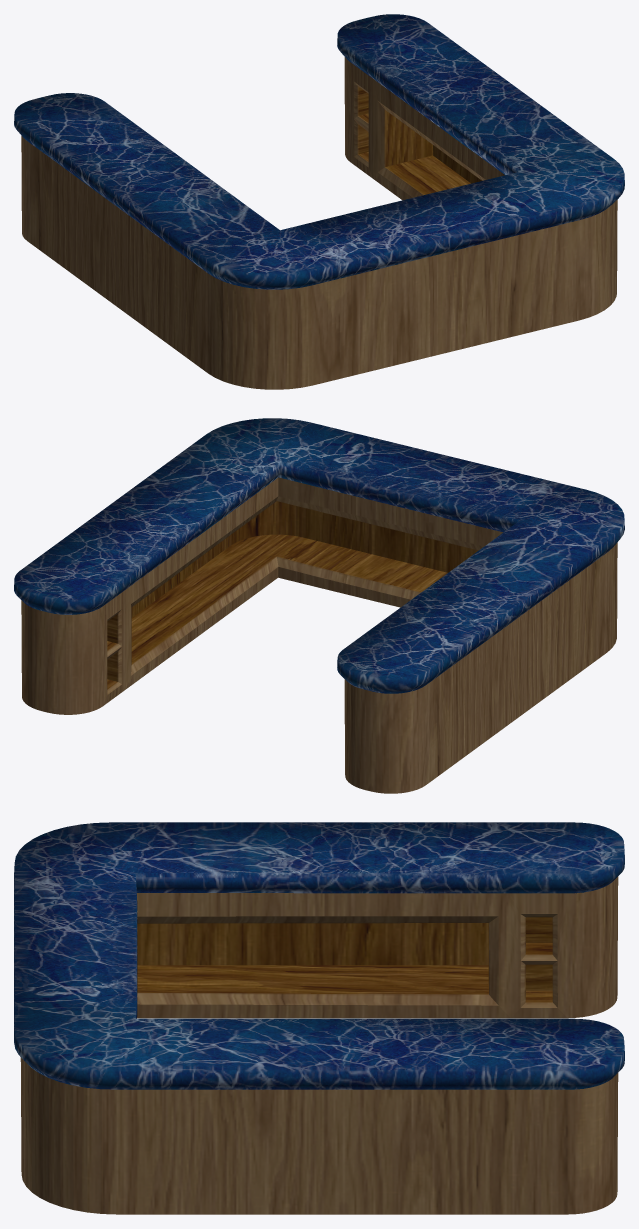
The model's file is NewTable.fbx.
3 renders of one model, top to bottom at view 1: azimuth 30°, elevation 25°; view 2: azimuth 150°, elevation 25°; view 3: azimuth 270°, elevation 25°, orthographic. The views are drawn at different scales.
Parts seen in each view (by area): view 1: TableBot, TableTop; view 2: TableBot, TableTop; view 3: TableBot, TableTop.
Boxes of the visible parts, x1,y1,x2,y2 form: TableBot: [21, 57, 617, 389]; TableTop: [14, 14, 624, 289]; TableBot: [21, 477, 617, 793]; TableTop: [14, 418, 624, 693]; TableBot: [20, 876, 618, 1214]; TableTop: [14, 822, 624, 1089].
Size of the model in its own units: 215 by 59.7 by 223.
